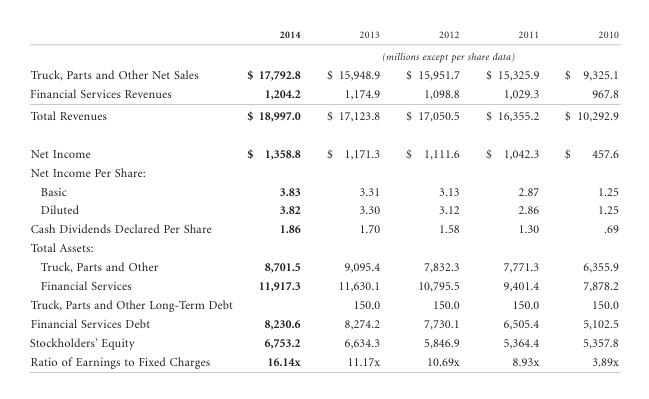table: (28, 28, 617, 368)
table column: (28, 28, 239, 368), (312, 28, 392, 368), (471, 28, 551, 368), (392, 28, 471, 368), (239, 28, 312, 368), (551, 28, 617, 368)
table column header: (28, 28, 617, 64)
table projected row header: (28, 162, 617, 181), (28, 238, 617, 257)
table row: (28, 104, 617, 134), (28, 134, 617, 162), (28, 83, 617, 104), (28, 45, 617, 64), (28, 64, 617, 83), (28, 162, 617, 181), (28, 181, 617, 200), (28, 200, 617, 219), (28, 219, 617, 238), (28, 238, 617, 257), (28, 257, 617, 276), (28, 276, 617, 295), (28, 295, 617, 314), (28, 314, 617, 333), (28, 333, 617, 351), (28, 28, 617, 45), (28, 351, 617, 368)
table spanning cell: (239, 45, 617, 64)
